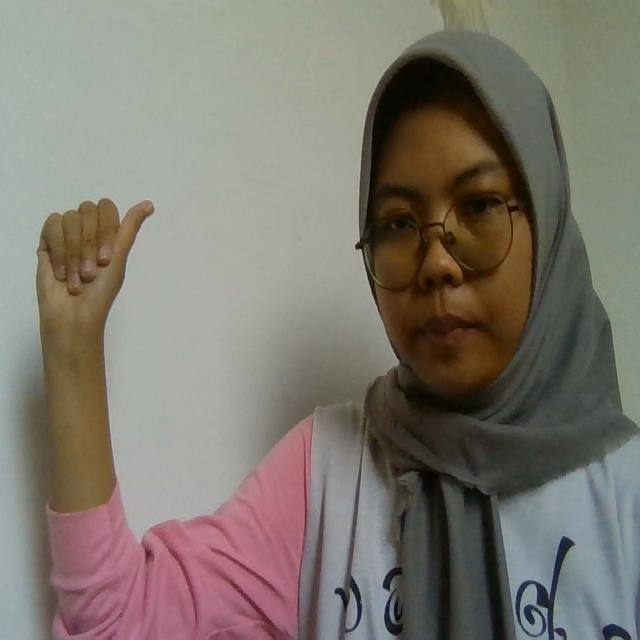A: (37, 198, 157, 331)
